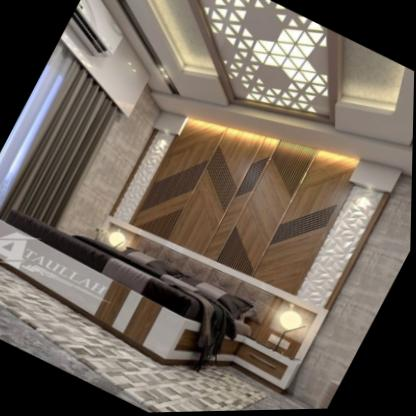Carpet: (0, 264, 267, 413)
Gypsum Board: (93, 0, 415, 180)
